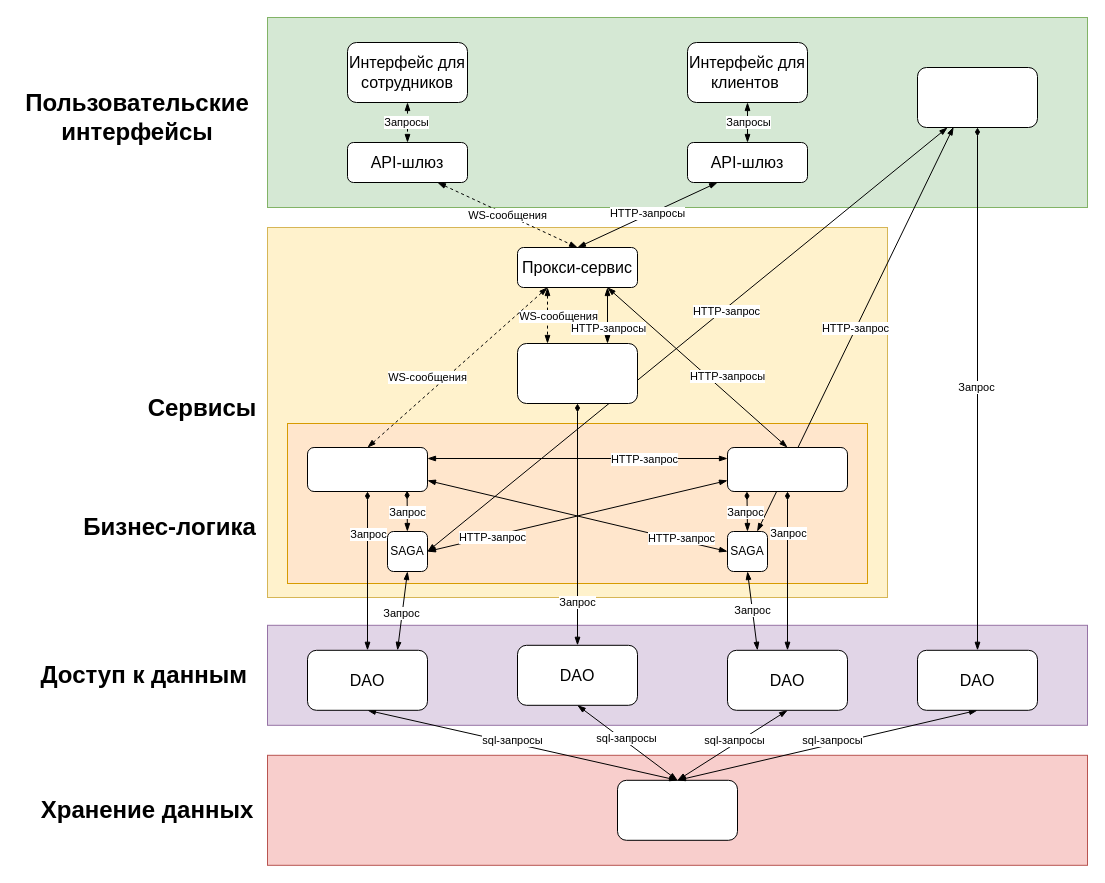
The diagram is 1105 pixels wide and 883 high, and some of its shapes have lost their labels. The centre of each missing label's shape, as x and y in pixels:
MySQL: the point at 677,809
Сервис для авторизация: the point at 577,373
Сервис для клиентов: the point at 787,469
Сервис для сотрудников: the point at 367,469
Телеграм-бот: the point at 977,97
